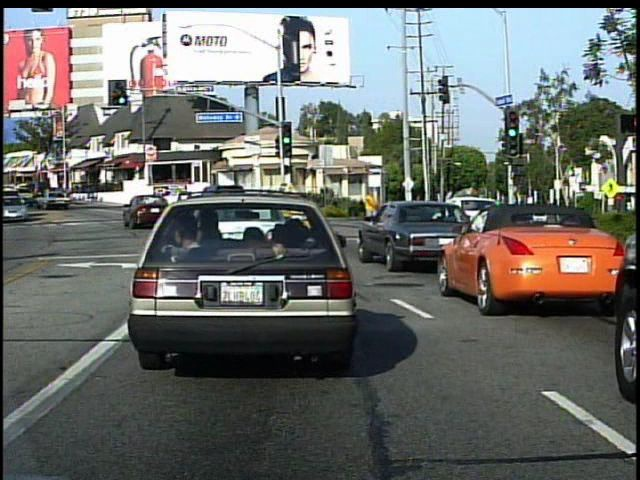person: (411, 187, 433, 234), (362, 188, 379, 218)
